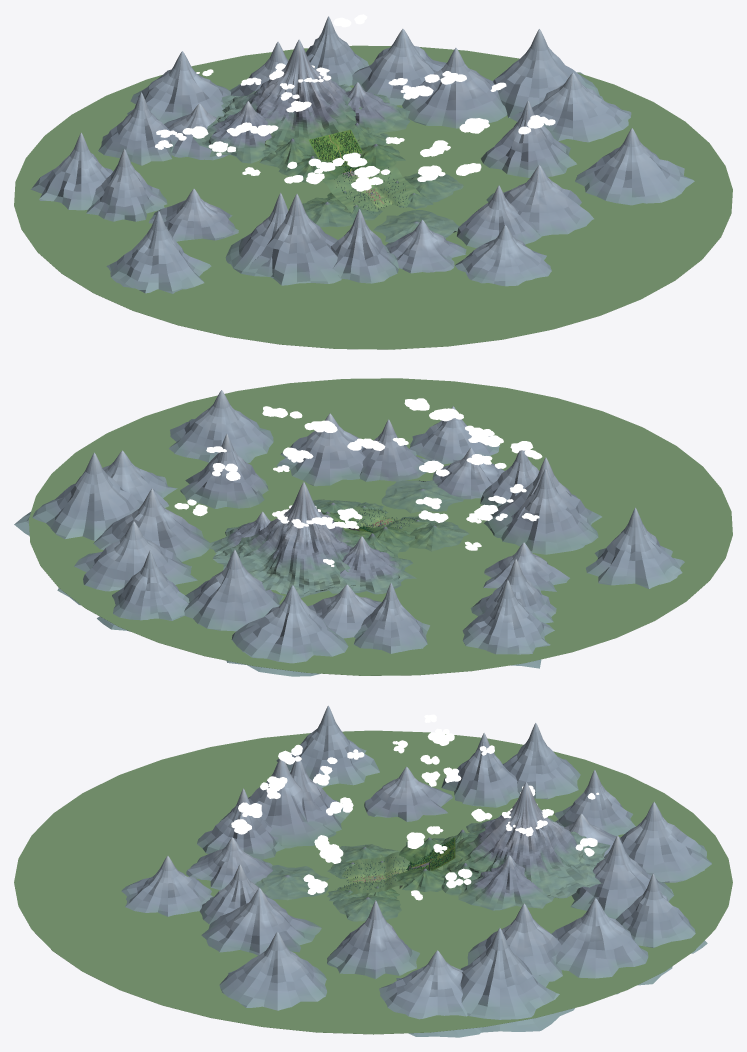
File: forest.glb
3 renders of one model, top to bottom at view 1: azimuth 30°, elevation 25°; view 2: azimuth 150°, elevation 25°; view 3: azimuth 270°, elevation 25°, orthographic. The views are drawn at different scales.
Parts seen in each view (by area): view 1: Forest_Backdrop, Forest_Clouds, Forest_Terrain, Forest_Forest; view 2: Forest_Backdrop, Forest_Clouds; view 3: Forest_Backdrop, Forest_Clouds, Forest_Terrain, Forest_Forest.
Part boxes in pixels (left/top/right/bottom): Forest_Backdrop: left=14, top=16, right=732, bottom=349; Forest_Clouds: left=155, top=14, right=555, bottom=191; Forest_Terrain: left=309, top=129, right=362, bottom=176; Forest_Forest: left=310, top=130, right=361, bottom=176; Forest_Backdrop: left=14, top=378, right=732, bottom=676; Forest_Clouds: left=174, top=398, right=542, bottom=566; Forest_Backdrop: left=14, top=705, right=732, bottom=1037; Forest_Clouds: left=231, top=714, right=599, bottom=900; Forest_Terrain: left=399, top=837, right=455, bottom=888; Forest_Forest: left=406, top=837, right=453, bottom=870.
Bounding box in the file's own units: 5200 × 889 × 5200.
